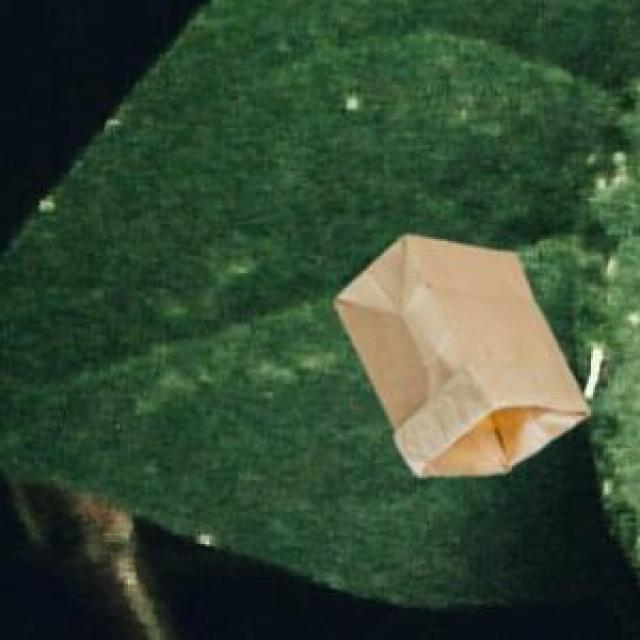paper: (331, 230, 585, 472)
